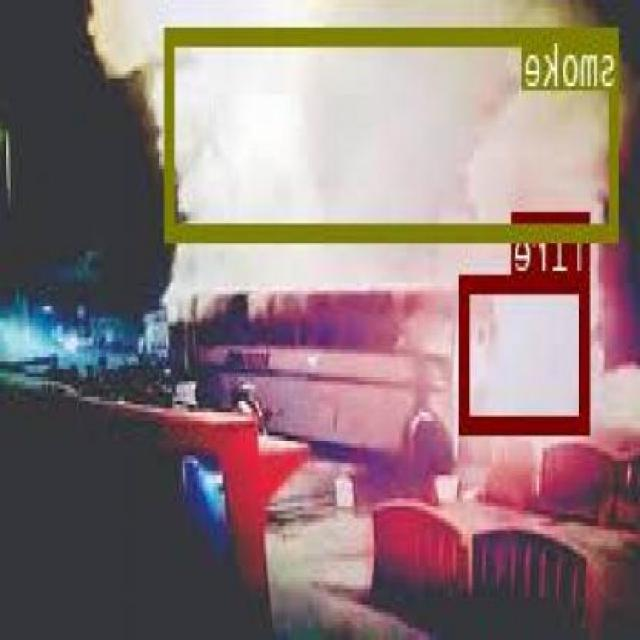Fire: (463, 272, 592, 428)
Smoke: (168, 24, 622, 238)
